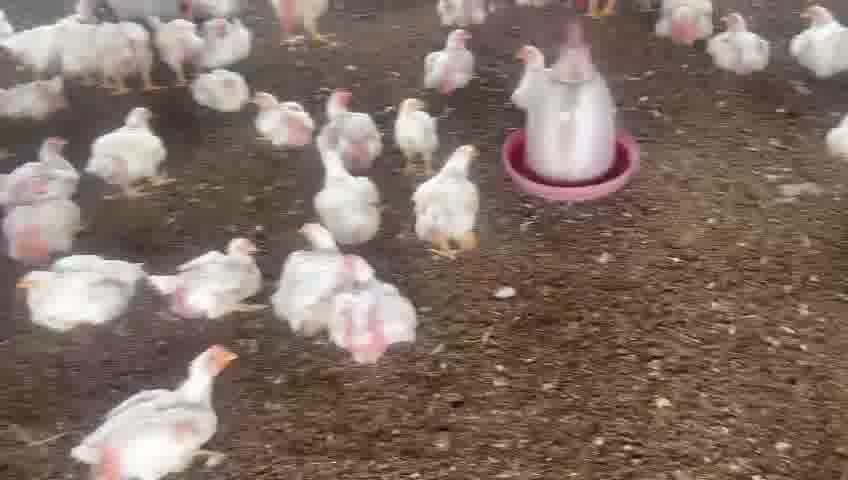Normal: (58, 345, 239, 480), (10, 256, 146, 335), (152, 236, 270, 321), (269, 221, 358, 331), (86, 105, 184, 202), (413, 136, 494, 251), (339, 256, 420, 369), (304, 149, 381, 238), (6, 176, 84, 260), (93, 16, 164, 104), (240, 82, 315, 158), (376, 91, 450, 168), (0, 132, 81, 202), (419, 25, 484, 112), (315, 79, 382, 160), (191, 17, 266, 88), (175, 59, 258, 121), (790, 0, 848, 85), (708, 9, 776, 75)
